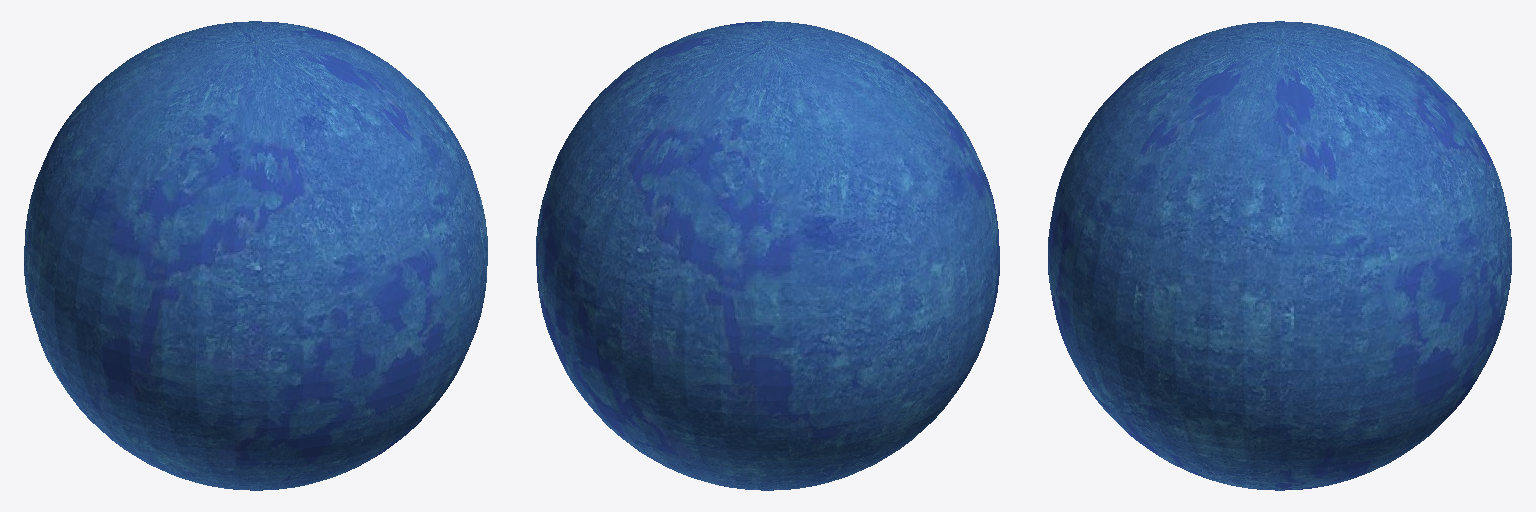
3 views of the same model, side by side, from view 1: azimuth 30°, elevation 25°; view 2: azimuth 150°, elevation 25°; view 3: azimuth 270°, elevation 25° (orthographic).
Visible parts, largest first — view 1: xingqiu_02; view 2: xingqiu_02; view 3: xingqiu_02.
Part boxes in pixels (bbox=[...]): xingqiu_02: bbox=[24, 21, 487, 490]; xingqiu_02: bbox=[536, 21, 999, 490]; xingqiu_02: bbox=[1048, 21, 1511, 490].
Bounding box in the file's own units: 11.82 × 11.97 × 11.82.
1 materials, 1 textured.